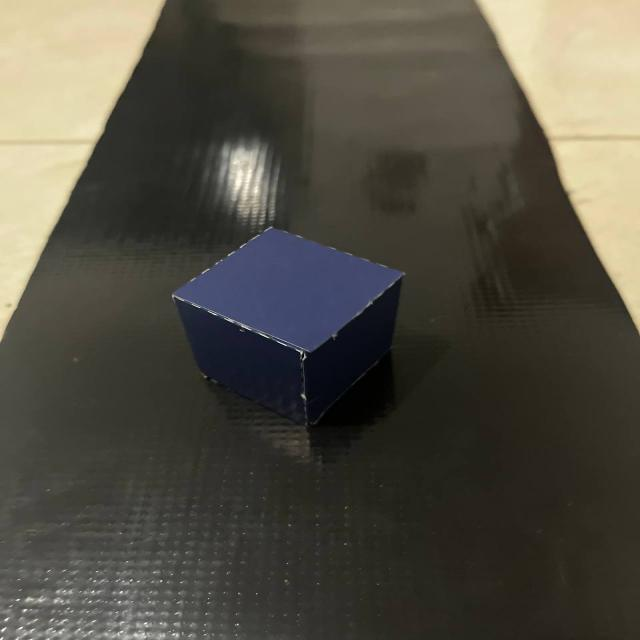Azul: (161, 200, 460, 460)
